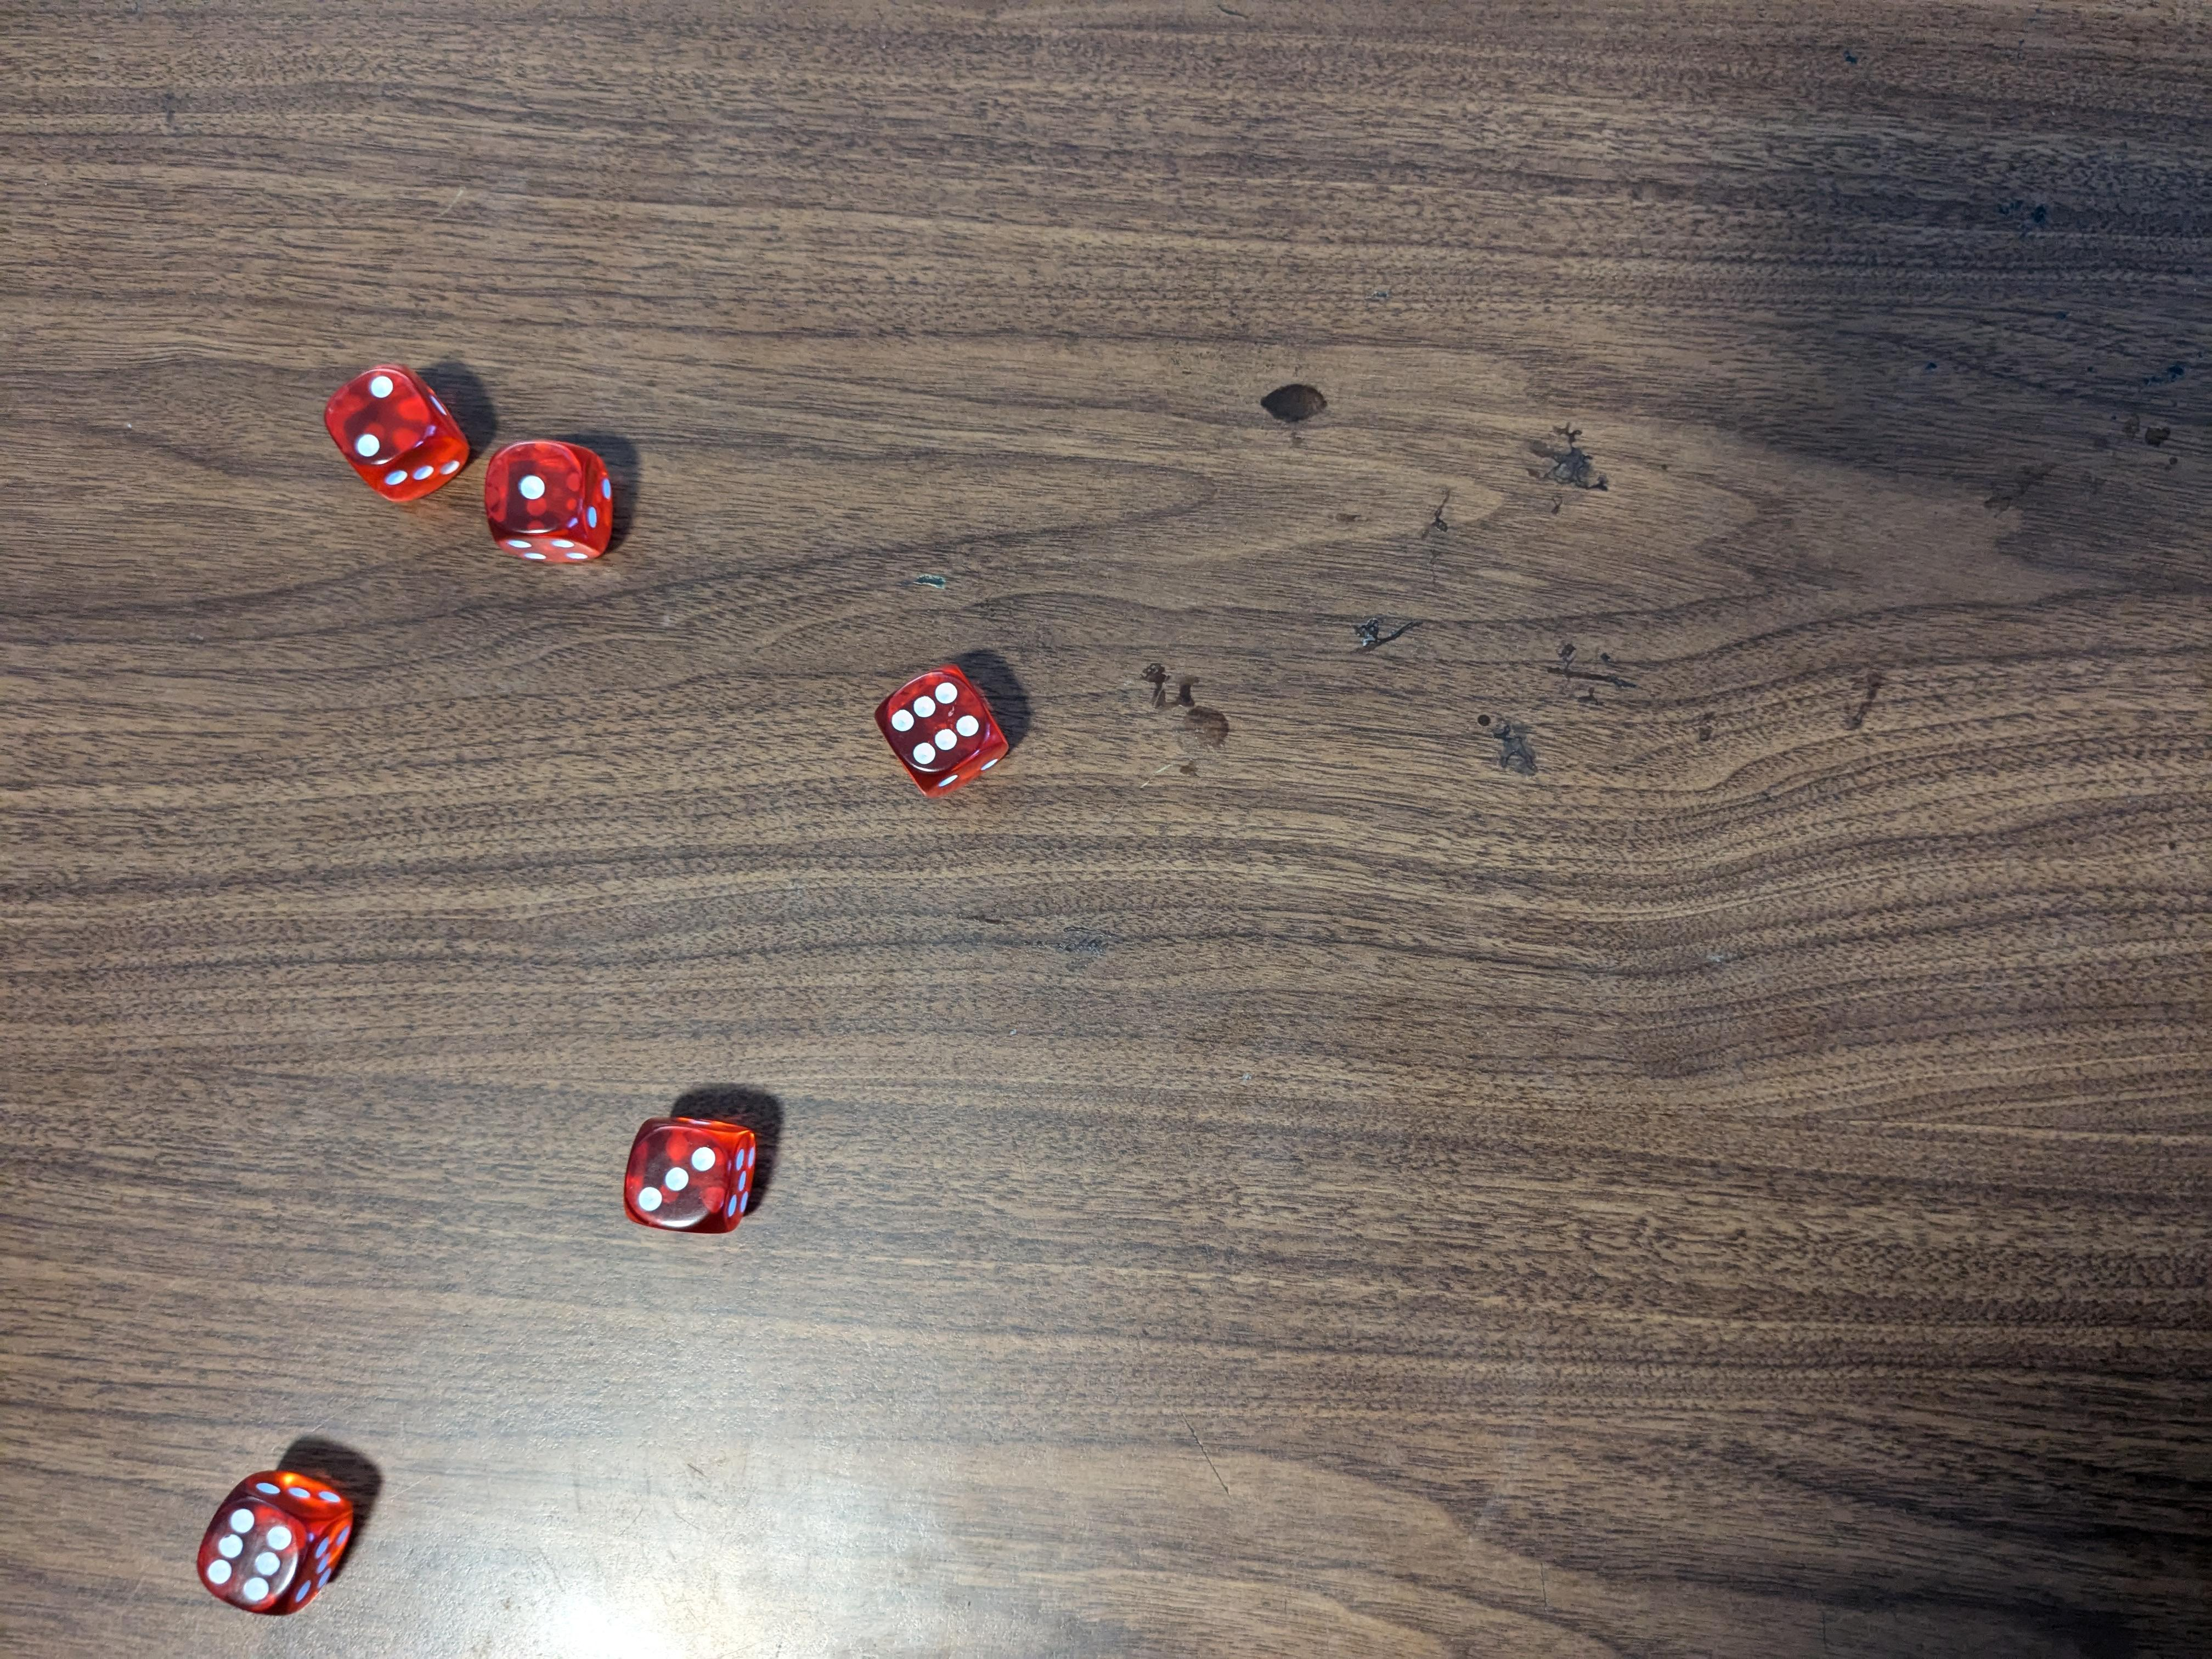one: (479, 436, 625, 572)
six: (186, 1469, 355, 1615), (878, 662, 1007, 803)
three: (618, 1103, 772, 1236)
two: (320, 356, 472, 509)
